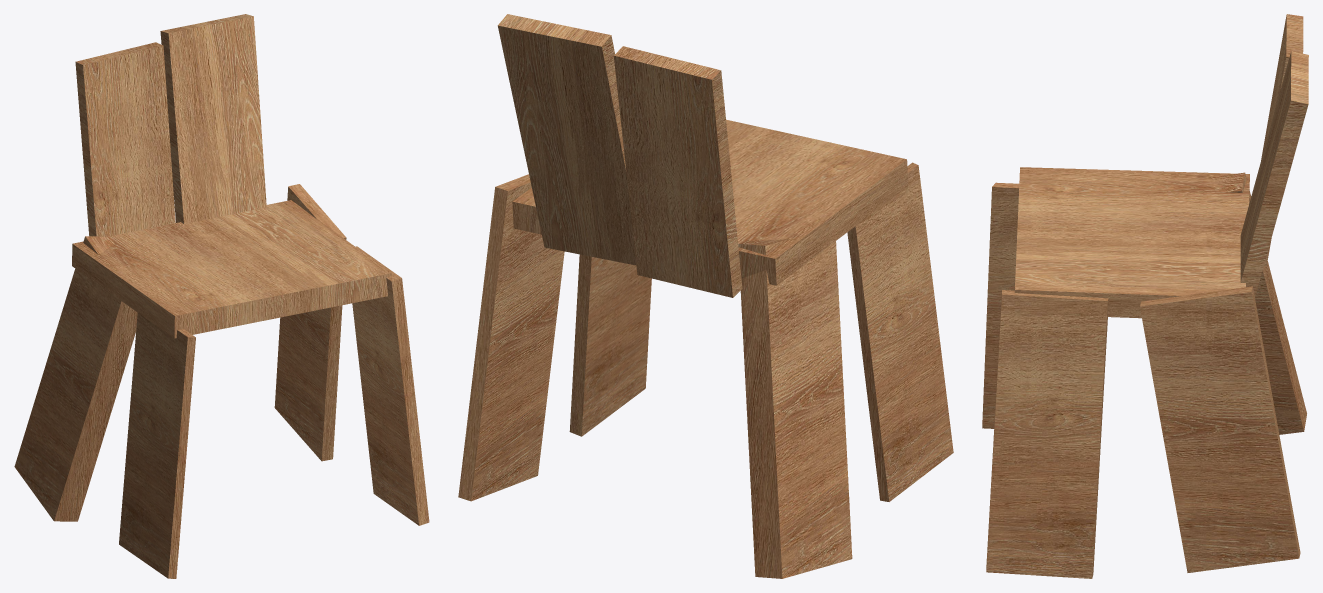
File: 42569_ours.glb
The picture shows the model from 3 angles, left to right: view 1: azimuth 30°, elevation 25°; view 2: azimuth 150°, elevation 25°; view 3: azimuth 270°, elevation 25°; orthographic projection. The views are drawn at different scales.
Parts seen in each view (by area): view 1: ParentEmpty; view 2: ParentEmpty; view 3: ParentEmpty.
Part boxes in pixels (box(x1,y1,x2,y2)): ParentEmpty: box(14, 14, 429, 578); ParentEmpty: box(458, 14, 953, 578); ParentEmpty: box(982, 14, 1308, 578).
Size of the model in its own units: 0.6914 by 1 by 0.6367.
1 material, 1 textured.
